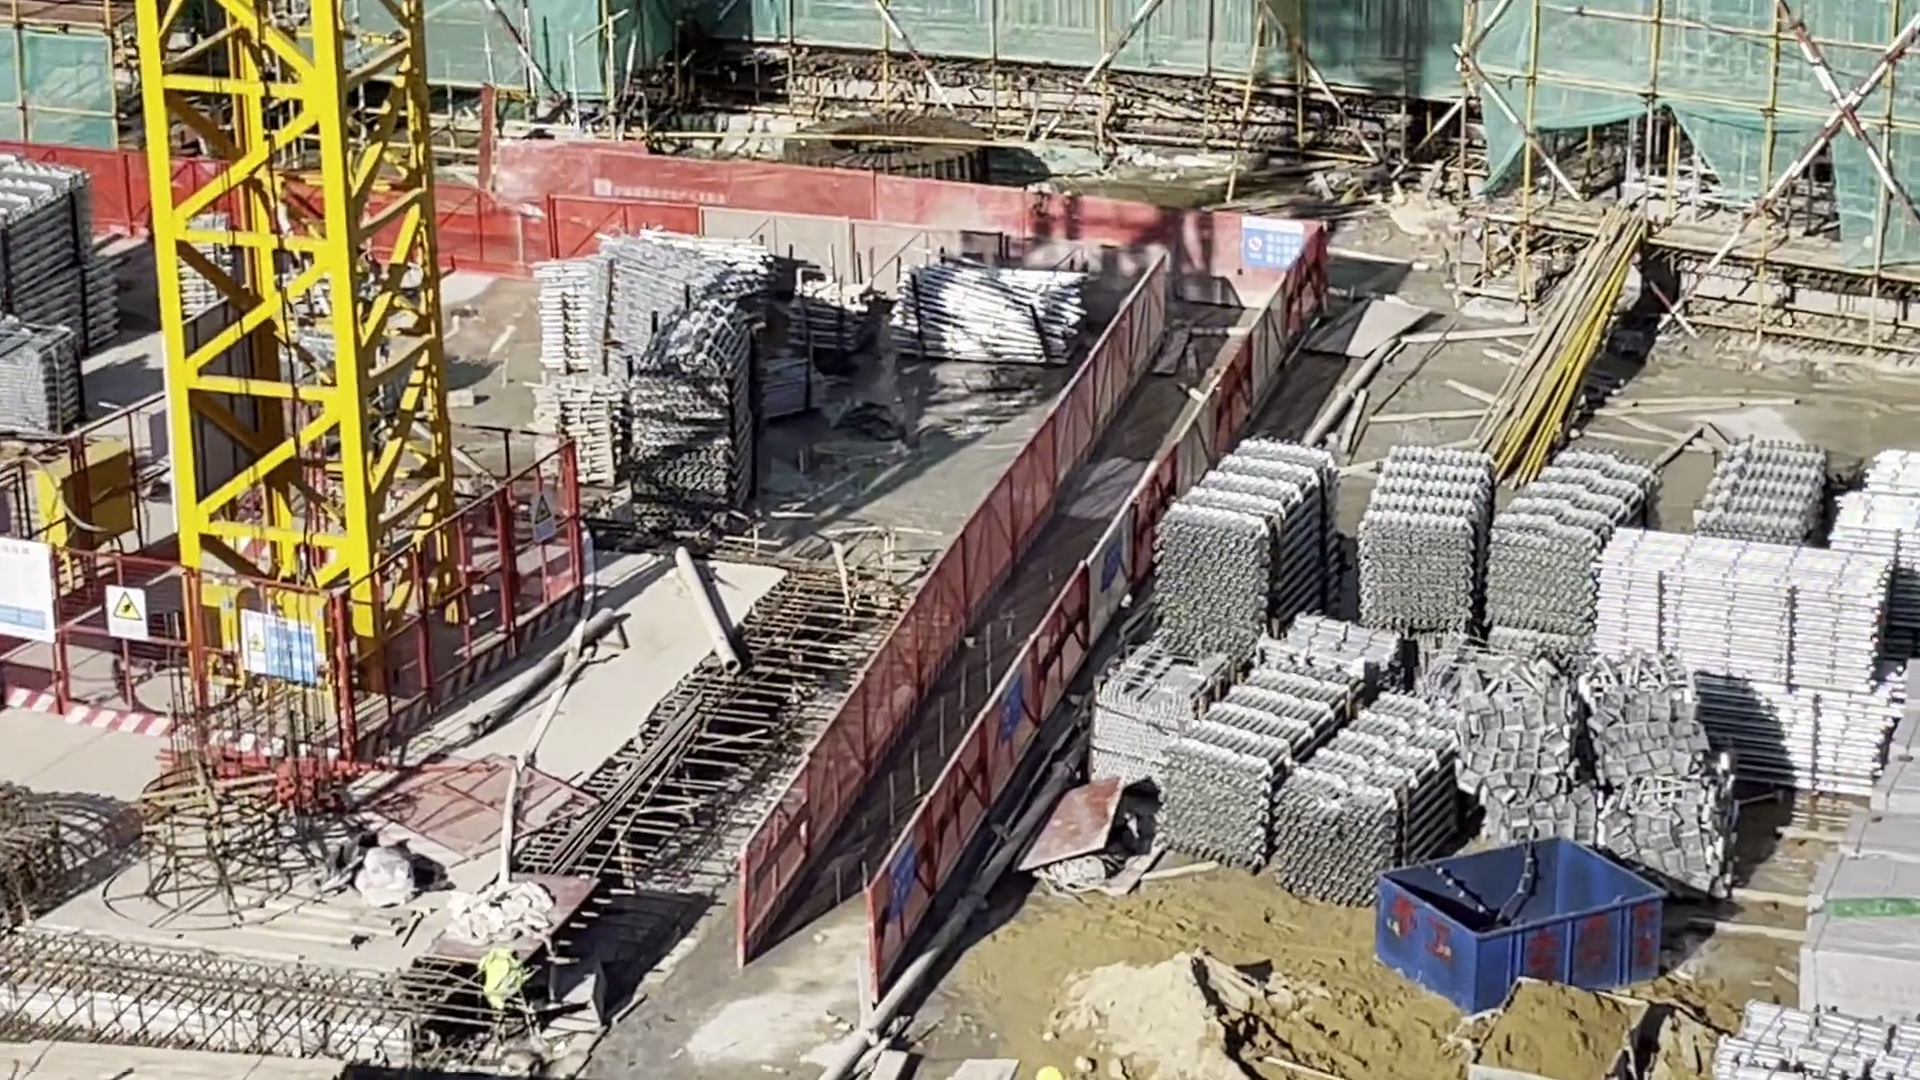ebox: (38, 451, 150, 551)
fence: (744, 256, 1325, 969), (439, 138, 1236, 276)
hopper: (1378, 843, 1659, 1007), (1481, 978, 1650, 1080)
scaffold: (1598, 533, 1888, 789), (1174, 673, 1456, 895), (1360, 447, 1646, 638), (1158, 443, 1336, 654), (629, 313, 756, 534), (547, 243, 766, 353), (1, 167, 123, 357), (894, 272, 1083, 371), (1716, 993, 1920, 1080), (1836, 450, 1920, 629), (1695, 436, 1825, 547), (531, 375, 632, 487), (1, 326, 83, 429), (794, 284, 878, 353)
slogan: (237, 608, 323, 688), (1246, 218, 1302, 277), (886, 829, 915, 911), (105, 583, 144, 637), (1000, 676, 1021, 749), (527, 495, 555, 539)
